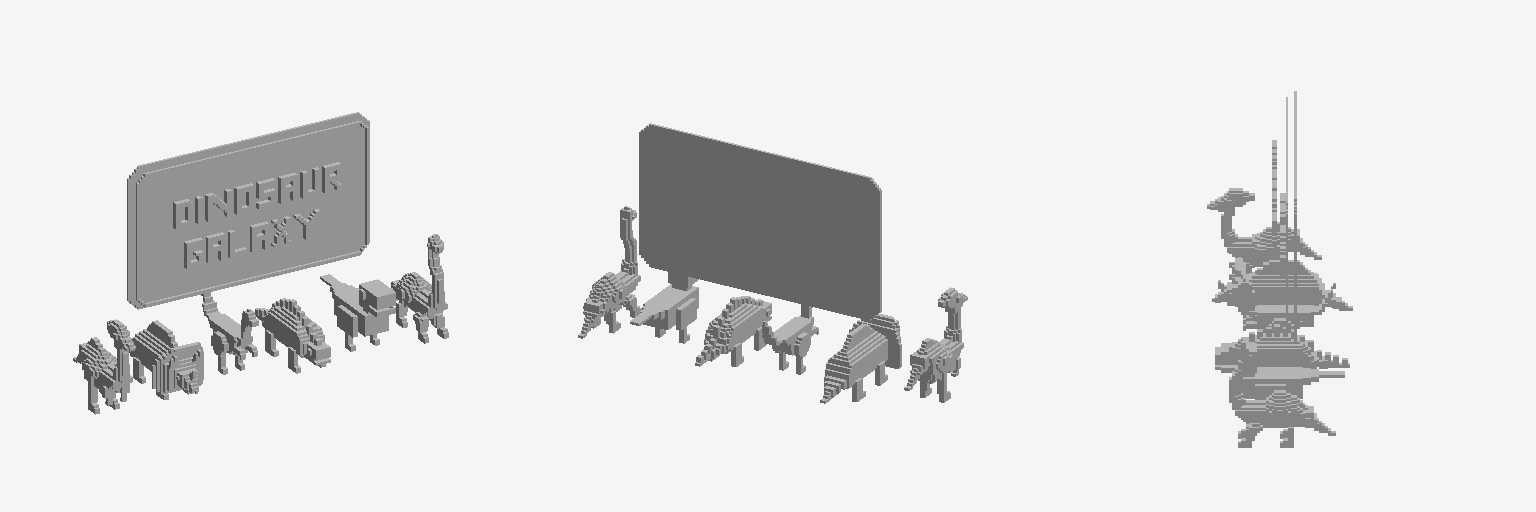
Rendered from dinosaurgalaxy.obj.
3 views of the same model, side by side, from view 1: azimuth 30°, elevation 25°; view 2: azimuth 150°, elevation 25°; view 3: azimuth 270°, elevation 25° (orthographic).
Parts seen in each view (by area): view 1: _7; view 2: _7; view 3: _7.
Part boxes in pixels (x1,y1,x2,y2): _7: (73,112,448,414); _7: (578,123,967,403); _7: (1207,91,1352,447).
Bounding box in the file's own units: 143 × 87 × 52.